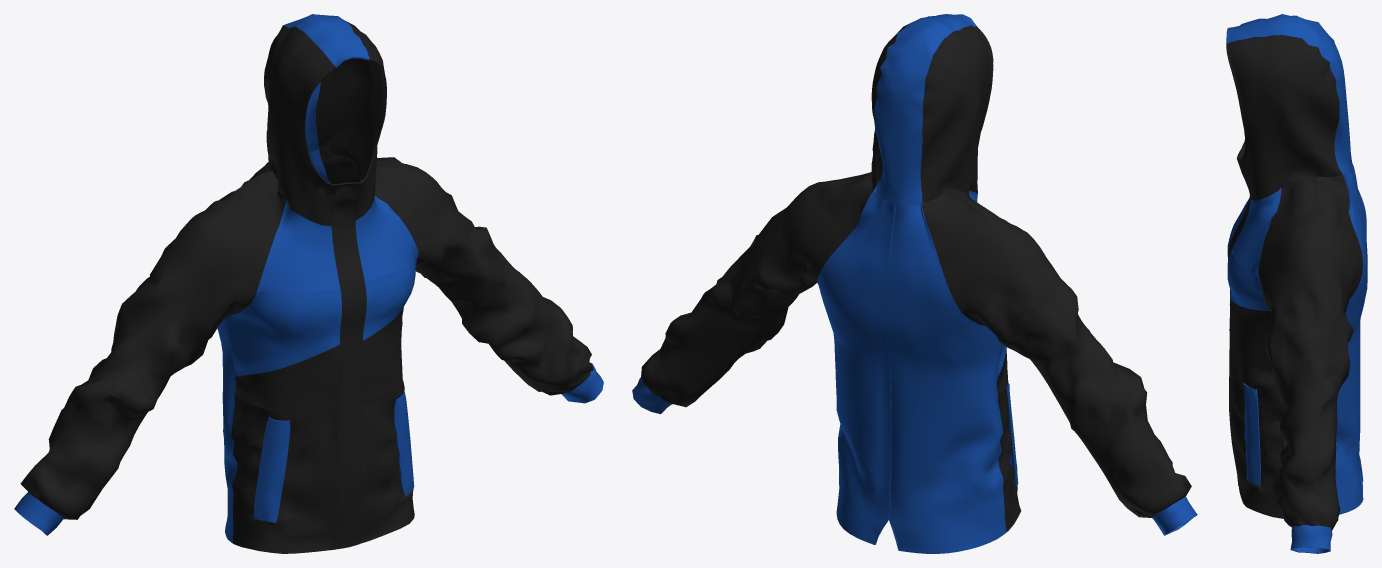
Rendered from jacket.glb.
3 renders of one model, left to right at view 1: azimuth 30°, elevation 25°; view 2: azimuth 150°, elevation 25°; view 3: azimuth 270°, elevation 25°, orthographic. The views are drawn at different scales.
Parts seen in each view (by area): view 1: Object_5, Object_3, Object_13, Object_4, Object_14; view 2: Object_14, Object_5, Object_13, Object_4, Object_3; view 3: Object_5, Object_3, Object_13, Object_14.
Boxes of the visible parts, x1,y1,x2,y2 form: Object_5: (20, 148, 593, 519); Object_3: (231, 21, 414, 553); Object_13: (14, 14, 603, 535); Object_4: (210, 25, 336, 376); Object_14: (217, 148, 405, 543); Object_14: (817, 190, 1006, 553); Object_5: (641, 172, 1191, 517); Object_13: (632, 14, 1197, 535); Object_4: (920, 25, 993, 202); Object_3: (871, 24, 1021, 531); Object_5: (1258, 175, 1362, 530); Object_3: (1226, 35, 1342, 518); Object_13: (1226, 14, 1351, 553); Object_14: (1243, 163, 1367, 514).
Size of the model in its own units: 111 by 94.85 by 25.8.
